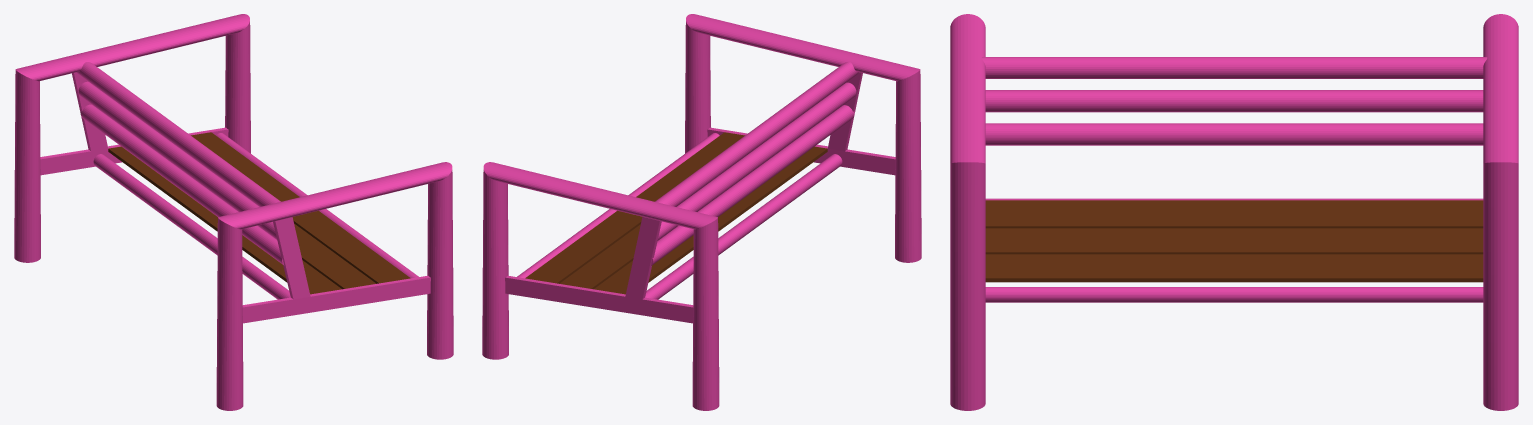
The model's file is banco.fbx.
3 views of the same model, side by side, from view 1: azimuth 30°, elevation 25°; view 2: azimuth 150°, elevation 25°; view 3: azimuth 270°, elevation 25° (orthographic). The views are drawn at different scales.
Visible parts, largest first — view 1: Cylinder.001; view 2: Cylinder.001; view 3: Cylinder.001.
Part boxes in pixels (x1=…): Cylinder.001: x1=14, y1=14, x2=453, y2=410; Cylinder.001: x1=482, y1=14, x2=921, y2=410; Cylinder.001: x1=950, y1=14, x2=1518, y2=410.
Size of the model in its own units: 245 by 188 by 392.
